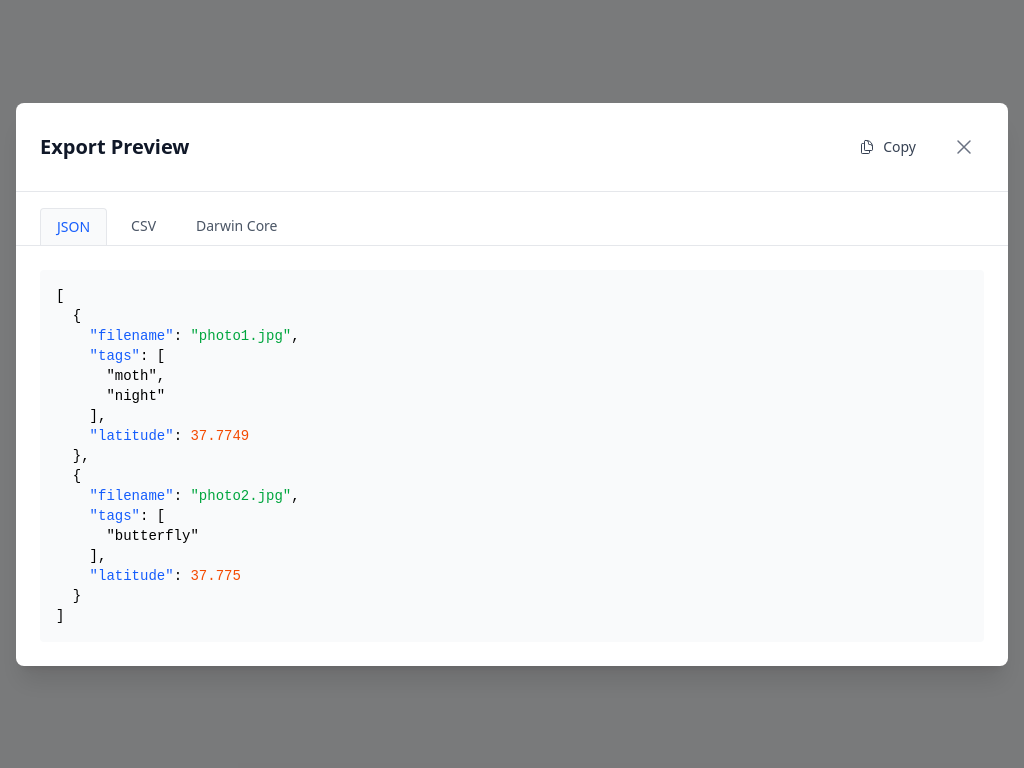
it: PreviewModal › copy button works
Click the button "Copy". click: (888, 146)
box: [843,128,932,164]
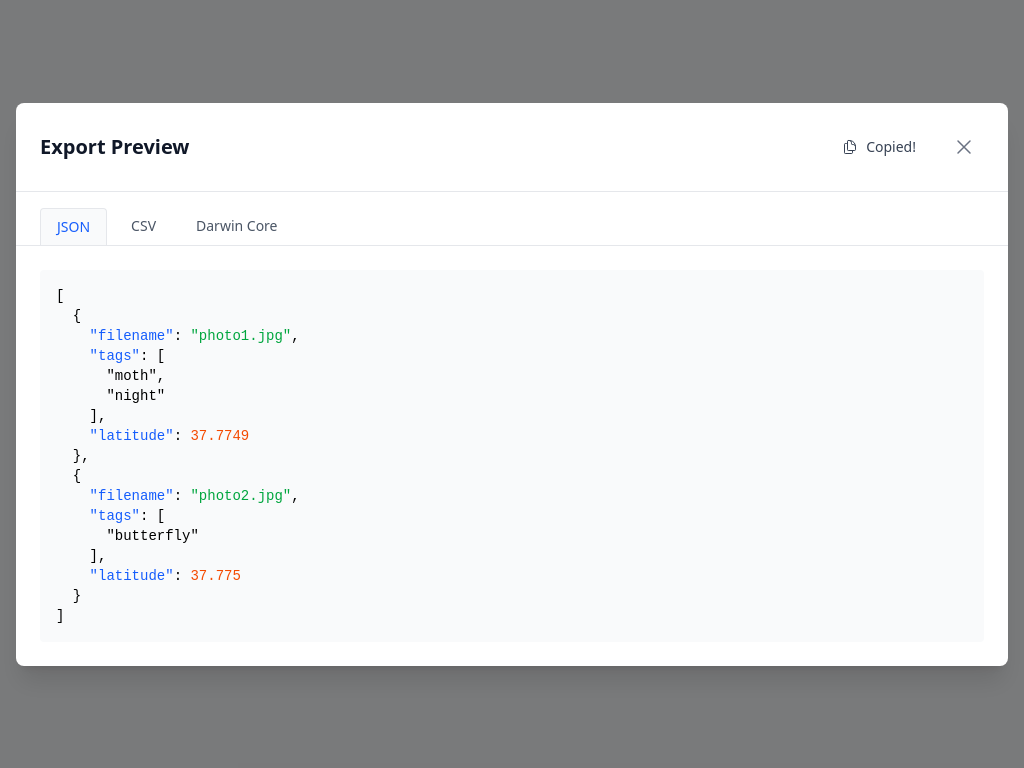
Check: the button "Copied!" is shown, box [826,128,932,164]
